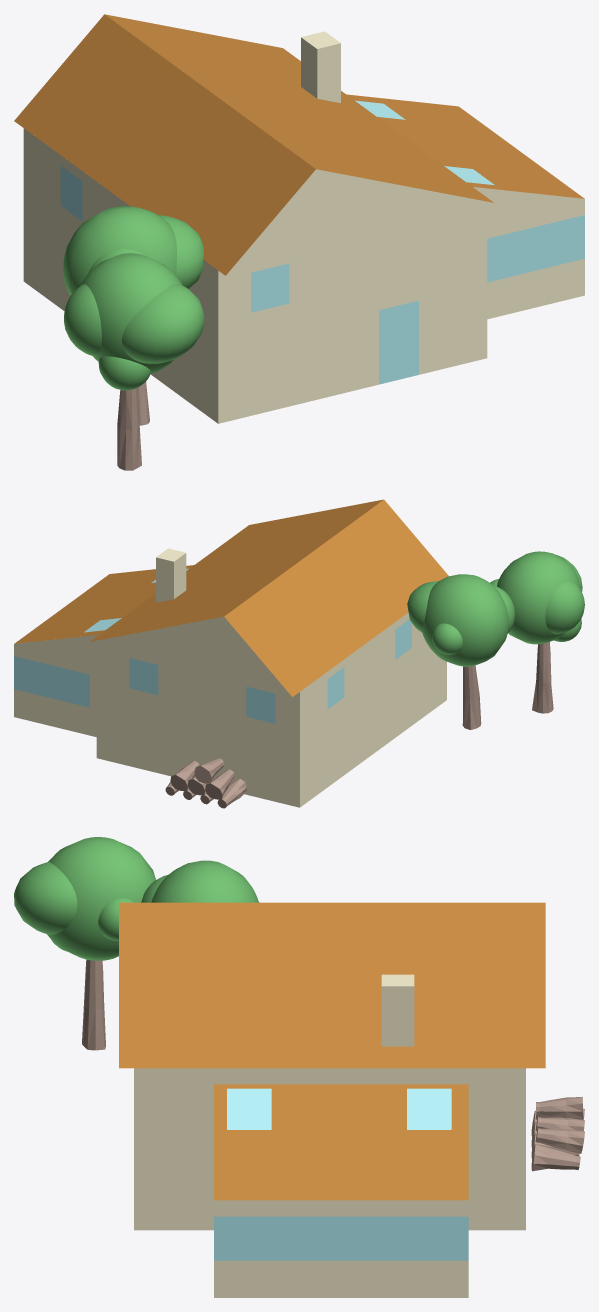
Rendered from building-house.glb.
3 renders of one model, top to bottom at view 1: azimuth 30°, elevation 25°; view 2: azimuth 150°, elevation 25°; view 3: azimuth 270°, elevation 25°, orthographic. The views are drawn at different scales.
Visible parts, largest first — view 1: object 4, object 1, object 2, object 5, Node-Mesh; view 2: object 4, object 1, object 2, object 5, Node-Mesh; view 3: object 1, object 4, object 5, object 2, Node-Mesh.
Boxes of the visible parts, x1,y1,x2,y2 form: object 4: (23, 31, 584, 423); object 1: (14, 14, 584, 275); object 2: (63, 206, 204, 390); object 5: (60, 100, 584, 384); Node-Mesh: (117, 382, 149, 470); object 4: (14, 548, 446, 807); object 1: (14, 499, 448, 696); object 2: (407, 551, 584, 666); object 5: (14, 568, 411, 723); Node-Mesh: (165, 642, 553, 808); object 1: (119, 902, 545, 1200); object 4: (134, 974, 525, 1297); object 5: (214, 1088, 468, 1260); object 2: (14, 837, 259, 960); Node-Mesh: (82, 959, 584, 1171).
Bounding box in the file's own units: 7.01 × 2.82 × 6.03.
